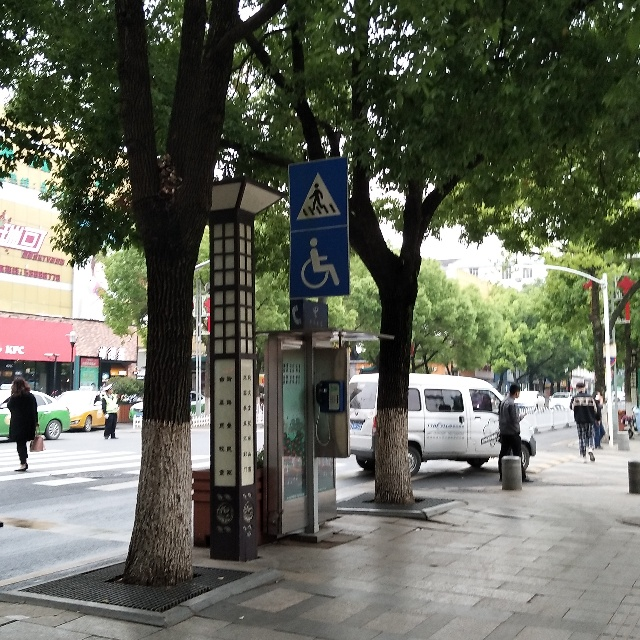crosswalk: (285, 157, 351, 232)
